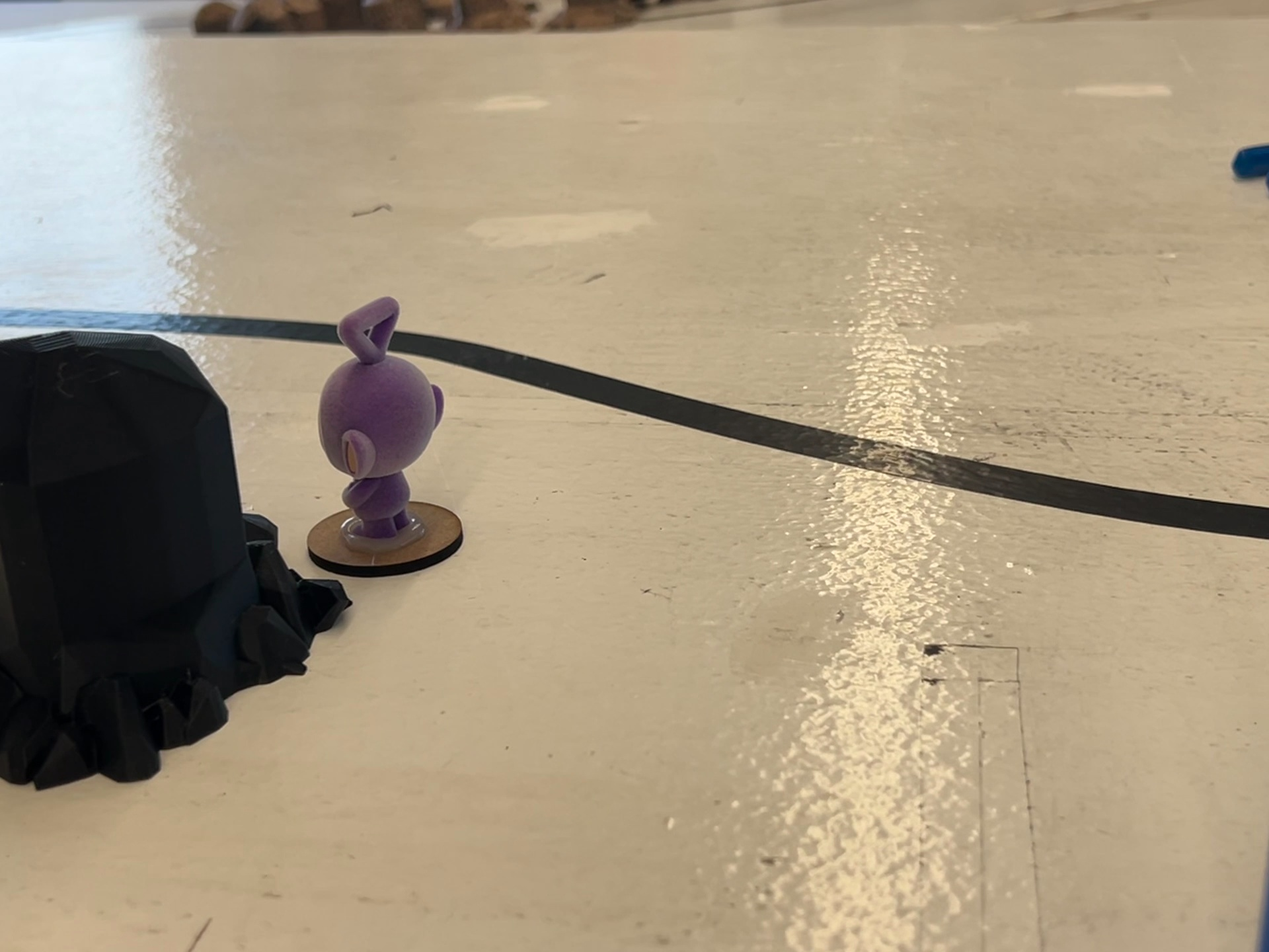teletubby: (319, 299, 443, 543)
